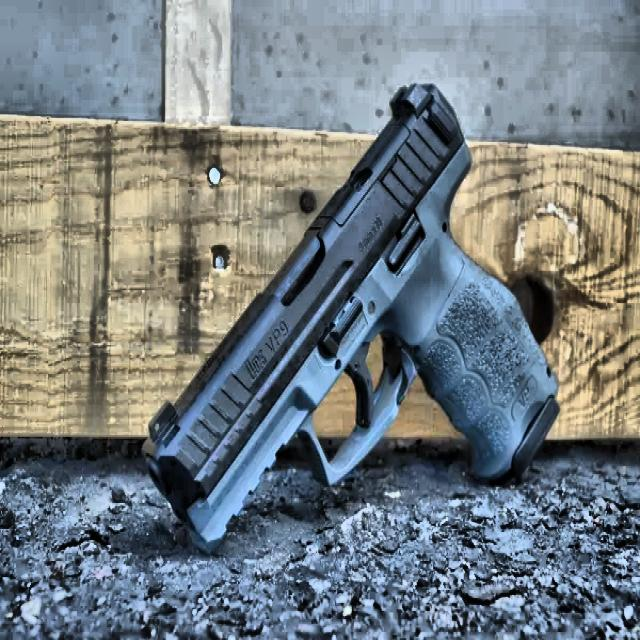HKVP9: (140, 79, 561, 555)
